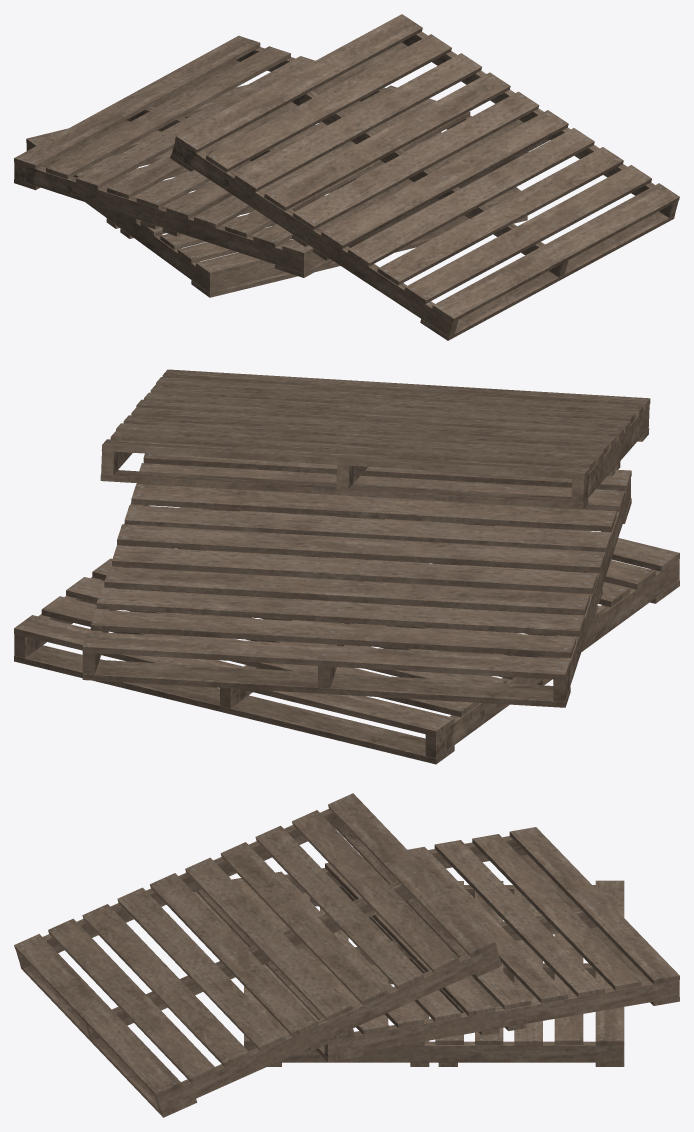
File: SM_Pallet_3_Stack.fbx
3 views of the same model, one above another, from view 1: azimuth 30°, elevation 25°; view 2: azimuth 150°, elevation 25°; view 3: azimuth 270°, elevation 25° (orthographic). The views are drawn at different scales.
Parts seen in each view (by area): view 1: SM_Pallet_3_Stack_LOD0; view 2: SM_Pallet_3_Stack_LOD0; view 3: SM_Pallet_3_Stack_LOD0.
Boxes of the visible parts, x1,y1,x2,y2 form: SM_Pallet_3_Stack_LOD0: [14, 14, 679, 340]; SM_Pallet_3_Stack_LOD0: [14, 369, 679, 764]; SM_Pallet_3_Stack_LOD0: [14, 793, 679, 1117].
Size of the model in its own units: 243 by 280 by 57.02.
Materials: 1 (1 with a texture image).
